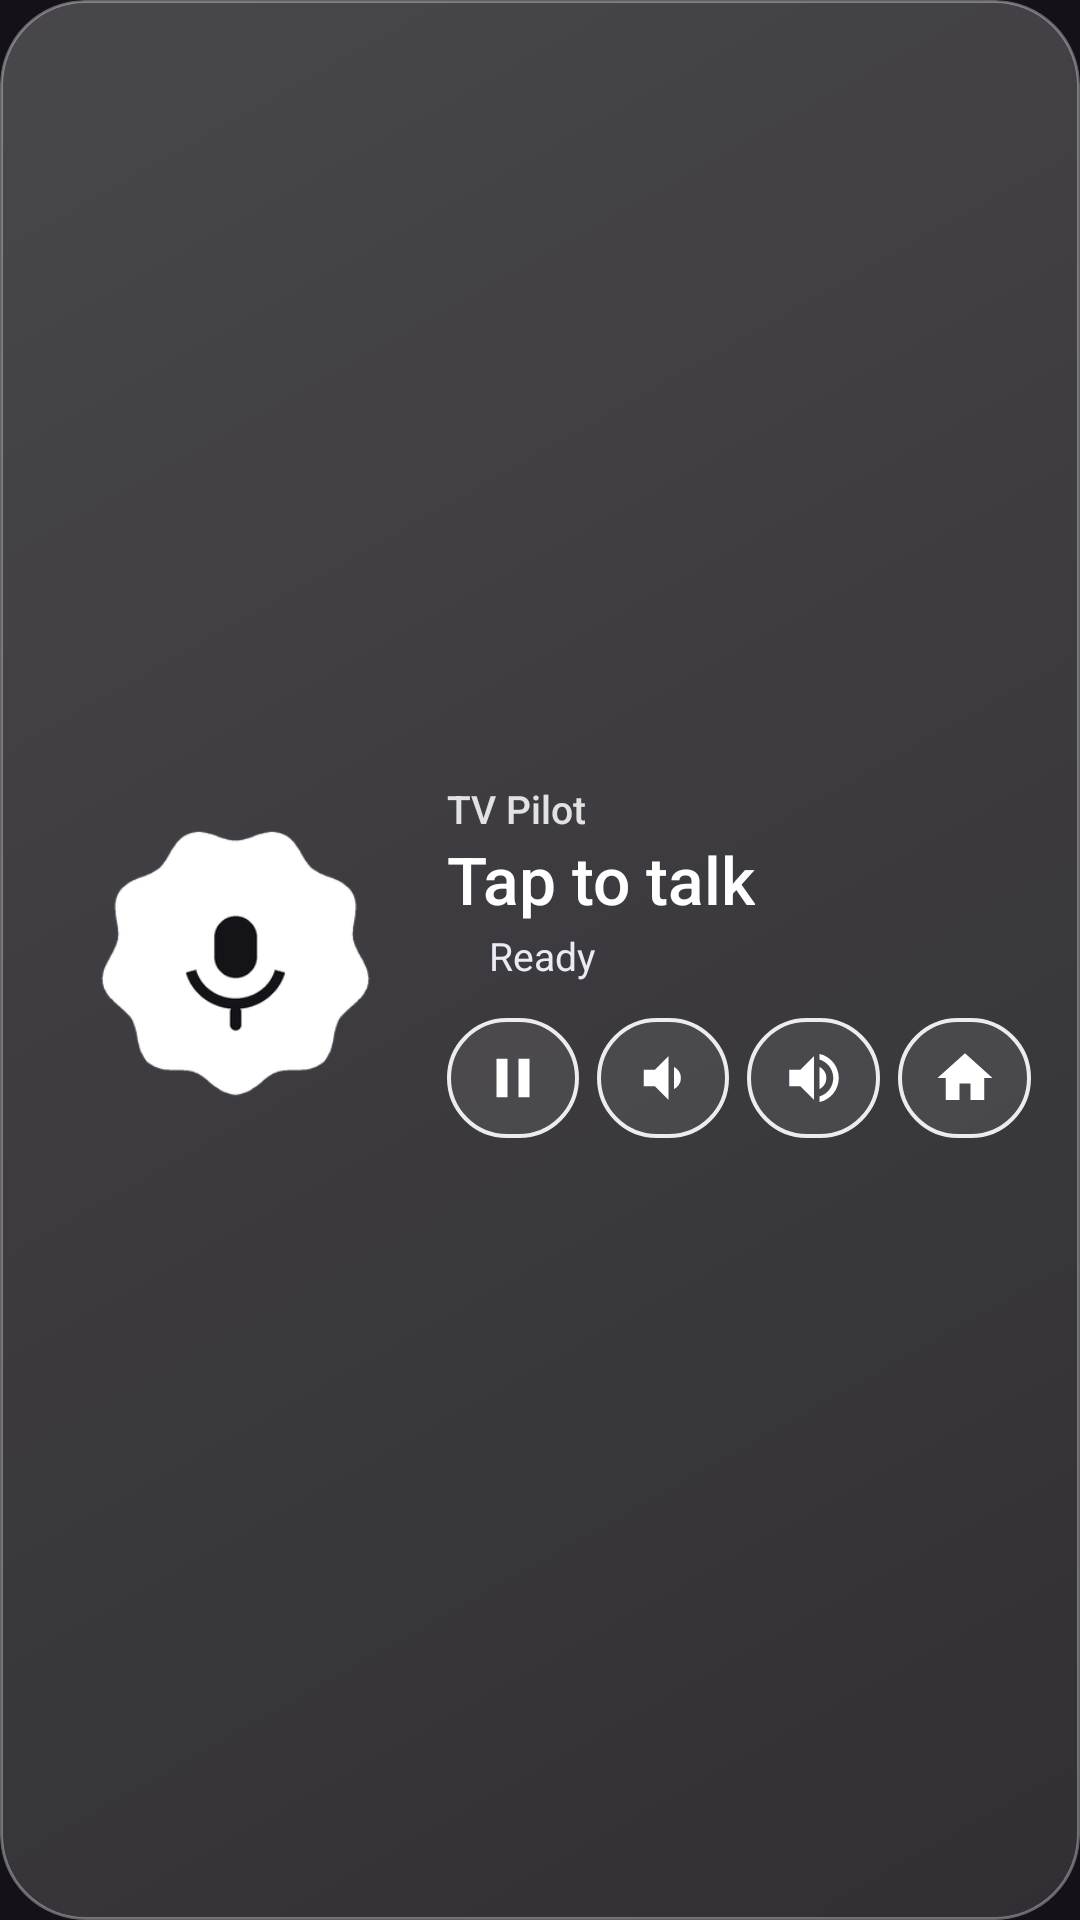

Named icons in this screenshot (1080*1920) and their bounding boxes, (x1, y1, x2, y2):
Home: (898, 1018, 1031, 1138)
Play or pause: (447, 1018, 579, 1138)
Volume down: (597, 1018, 729, 1138)
Volume up: (747, 1018, 880, 1138)
